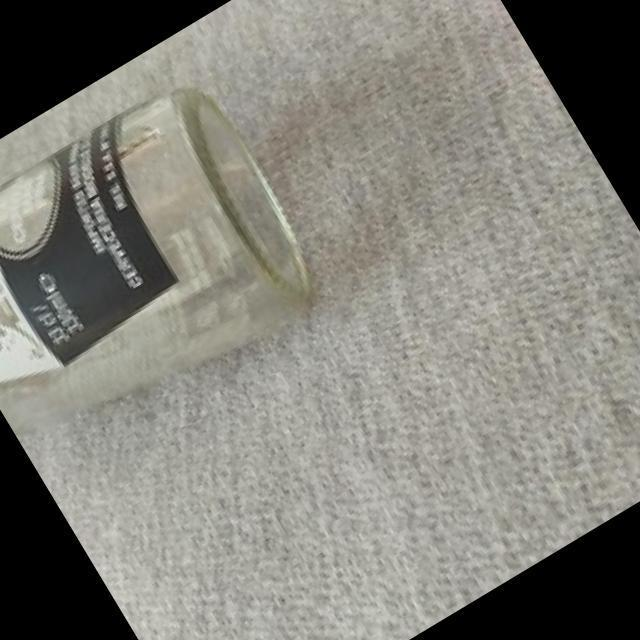Glass: (0, 88, 311, 432)
